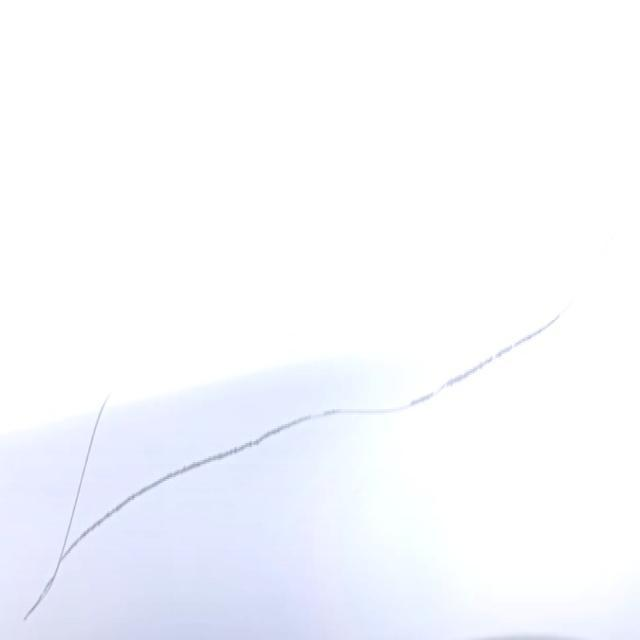crack: (129, 304, 459, 524)
